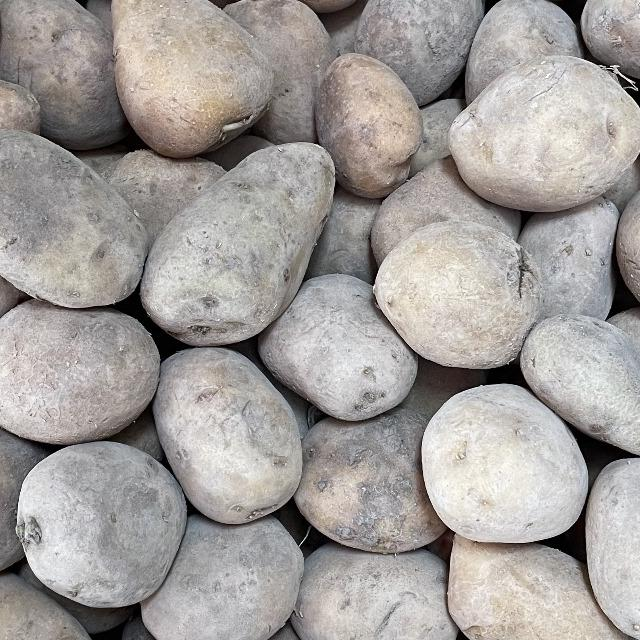potato: (132, 130, 362, 355), (0, 425, 210, 617), (435, 40, 640, 220), (80, 0, 297, 142), (0, 120, 152, 312), (0, 540, 122, 640)
